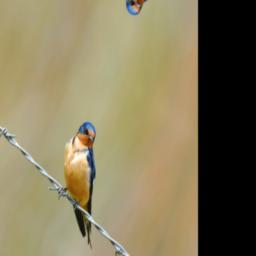Swallow: (42, 110, 127, 250)
